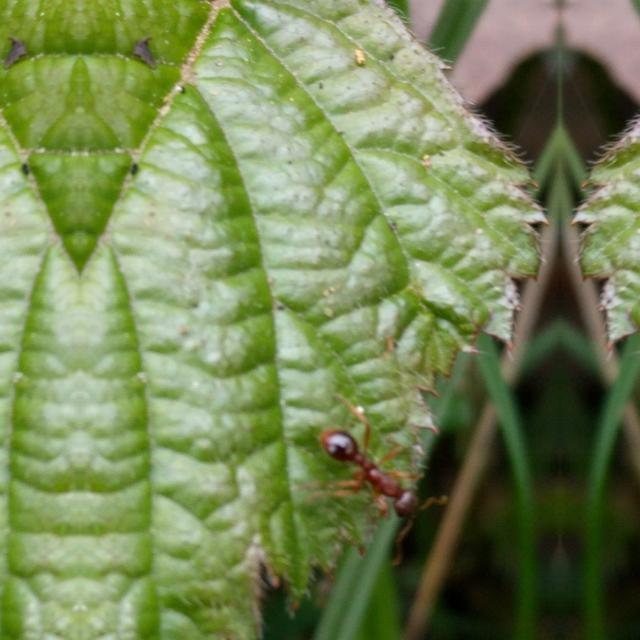Myrmica: (303, 399, 481, 548)
